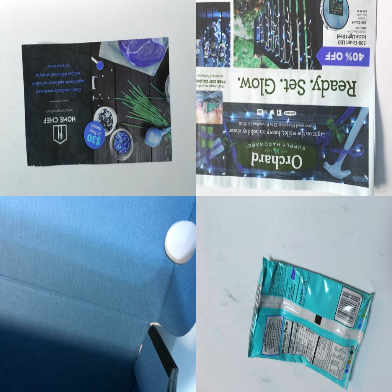cardboard: (1, 196, 197, 392)
paper: (195, 1, 377, 195), (21, 38, 172, 167)
trash: (246, 256, 374, 390)
